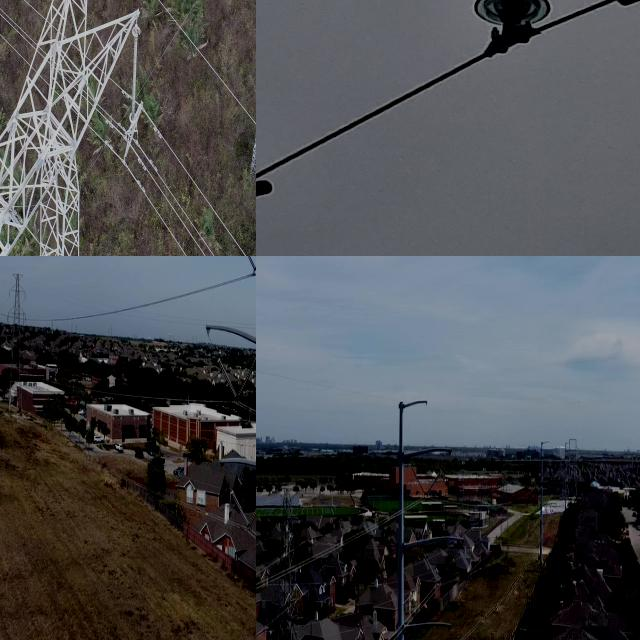杆塔: (0, 0, 157, 256), (258, 472, 316, 640), (2, 260, 28, 393)
正常电缆: (256, 0, 640, 194)
正常绝缘子: (462, 0, 552, 54), (210, 337, 244, 408), (221, 474, 256, 539), (230, 346, 256, 415), (129, 26, 142, 129), (435, 553, 458, 589), (421, 549, 442, 587), (422, 466, 444, 502), (408, 459, 428, 498), (243, 499, 256, 540), (242, 256, 256, 285)
